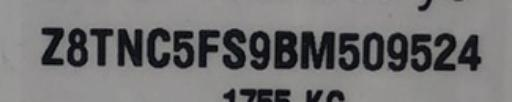letter: (300, 27, 336, 71), (114, 26, 144, 69), (220, 26, 248, 69), (455, 30, 483, 72), (88, 25, 114, 68), (145, 26, 171, 69), (196, 26, 222, 68), (64, 26, 90, 68), (246, 29, 272, 71), (39, 25, 65, 66), (384, 28, 408, 72), (272, 29, 298, 69), (408, 32, 434, 72), (172, 27, 196, 69), (336, 29, 360, 71), (362, 30, 386, 72), (432, 30, 456, 70)
